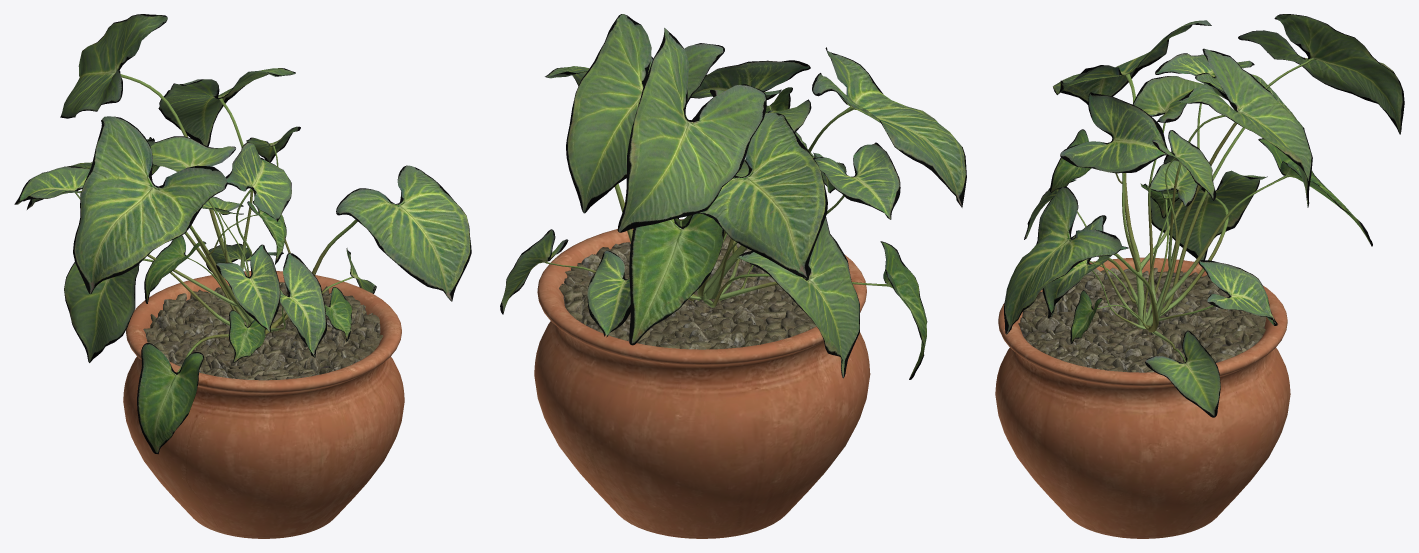
Rendered from potted_plant_02.glb.
3 views of the same model, side by side, from view 1: azimuth 30°, elevation 25°; view 2: azimuth 150°, elevation 25°; view 3: azimuth 270°, elevation 25° (orthographic). The views are drawn at different scales.
Visible parts, largest first — view 1: potted_plant_02_leaves, potted_plant_02_pot, potted_plant_02_dirt; view 2: potted_plant_02_leaves, potted_plant_02_pot, potted_plant_02_dirt; view 3: potted_plant_02_leaves, potted_plant_02_pot, potted_plant_02_dirt.
Boxes of the visible parts, x1=… form: potted_plant_02_leaves: x1=14, y1=14, x2=471, y2=454; potted_plant_02_pot: x1=123, y1=271, x2=404, y2=538; potted_plant_02_dirt: x1=143, y1=282, x2=383, y2=380; potted_plant_02_leaves: x1=500, y1=14, x2=966, y2=379; potted_plant_02_pot: x1=534, y1=219, x2=870, y2=538; potted_plant_02_dirt: x1=559, y1=234, x2=816, y2=349; potted_plant_02_leaves: x1=1004, y1=14, x2=1404, y2=417; potted_plant_02_pot: x1=995, y1=257, x2=1290, y2=538; potted_plant_02_dirt: x1=1018, y1=267, x2=1266, y2=372.
Bounding box in the file's own units: 0.7012 × 0.8412 × 0.6574.
Materials: 2 (2 with a texture image).
